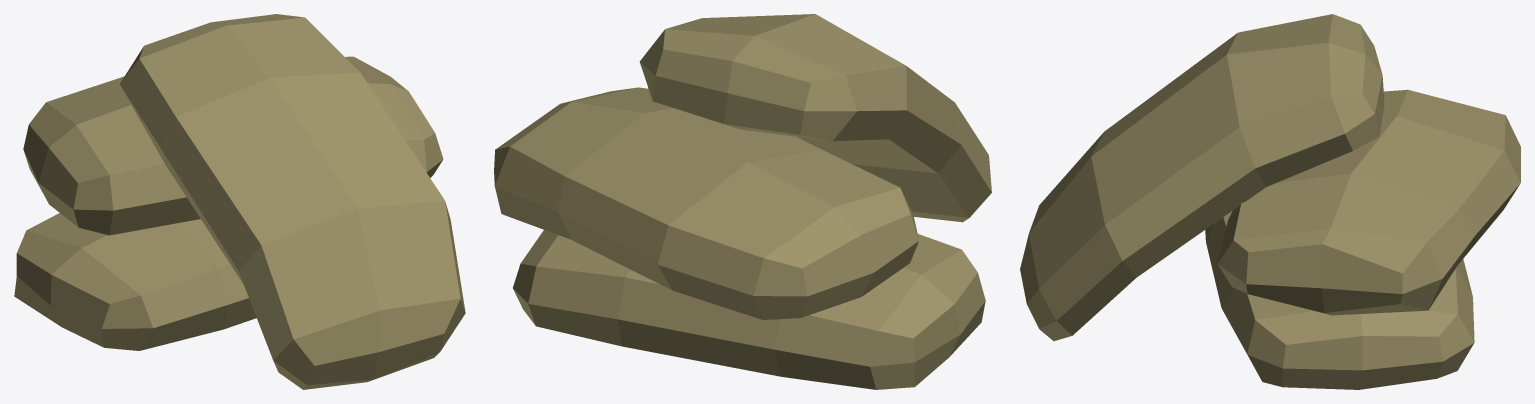
Rendered from Sack_3.fbx.
The picture shows the model from 3 angles, left to right: view 1: azimuth 30°, elevation 25°; view 2: azimuth 150°, elevation 25°; view 3: azimuth 270°, elevation 25°; orthographic projection. The views are drawn at different scales.
Parts seen in each view (by area): view 1: Sack_3; view 2: Sack_3; view 3: Sack_3.
Boxes of the visible parts, x1,y1,x2,y2 form: Sack_3: (14,14,465,389); Sack_3: (494,14,991,389); Sack_3: (1020,14,1520,389).
Size of the model in its own units: 76.46 by 50.34 by 84.
